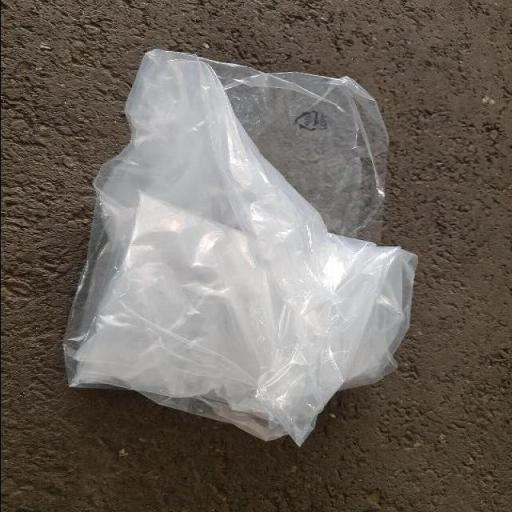plastic-bag: (54, 46, 426, 450)
